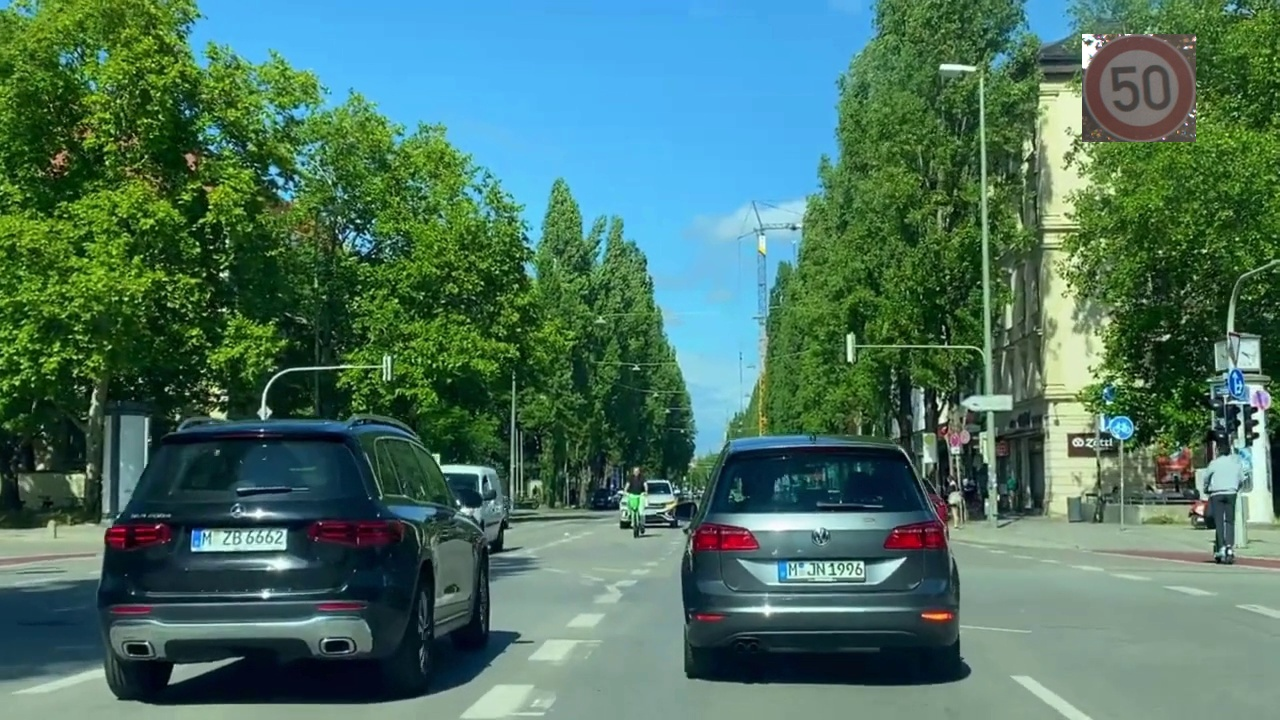Speed 50: (1082, 34, 1196, 142)
